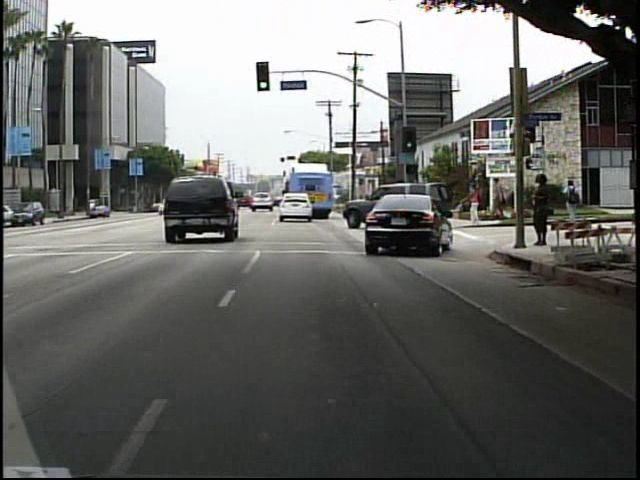person: (527, 170, 552, 253), (464, 179, 488, 228), (560, 177, 583, 222), (489, 177, 507, 223)
